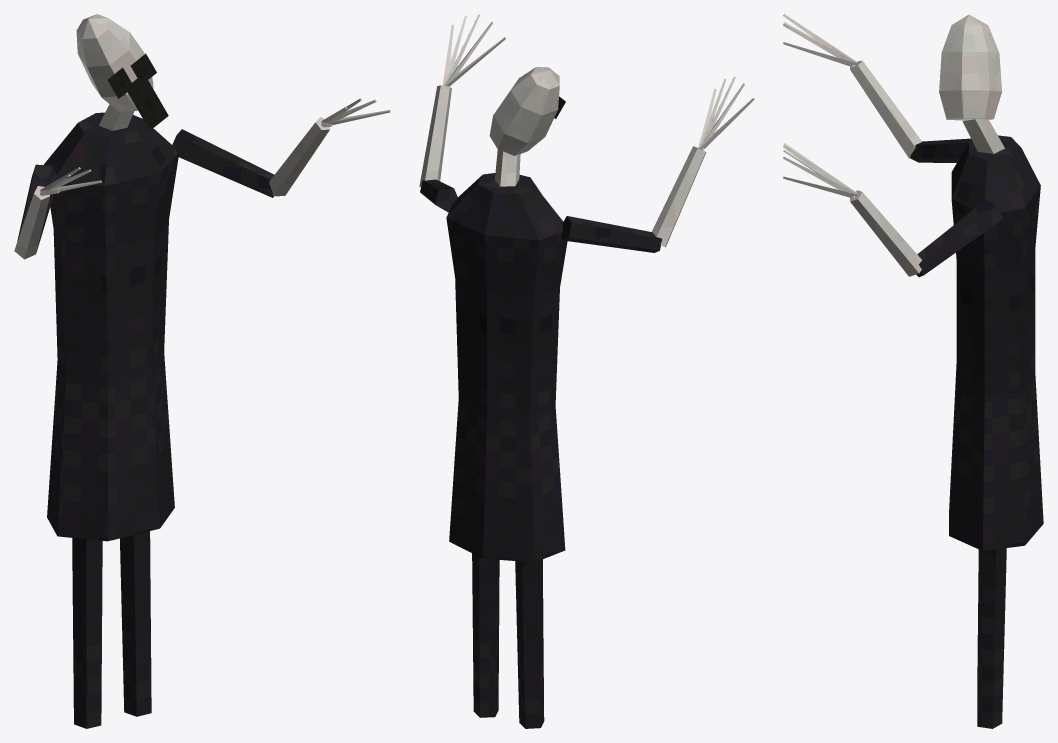
The model's file is cazador_cara.obj.
3 renders of one model, left to right at view 1: azimuth 30°, elevation 25°; view 2: azimuth 150°, elevation 25°; view 3: azimuth 270°, elevation 25°, orthographic. The views are drawn at different scales.
Visible parts, largest first — view 1: cazador_cara; view 2: cazador_cara; view 3: cazador_cara.
Boxes of the visible parts, <box> form: cazador_cara: <box>14,14,390,728</box>; cazador_cara: <box>419,14,754,728</box>; cazador_cara: <box>783,14,1043,728</box>.
Size of the model in its own units: 1.33 by 2.72 by 0.9415.
Materials: 3 (3 with a texture image).
